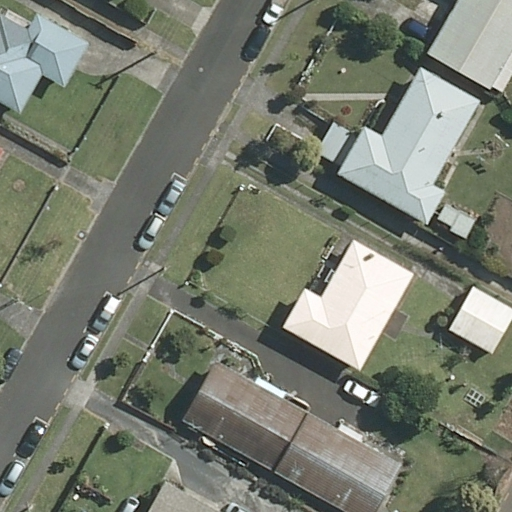DT: (151, 40, 166, 60), (156, 260, 171, 279)
